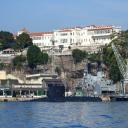submarine: (24, 87, 106, 102)
